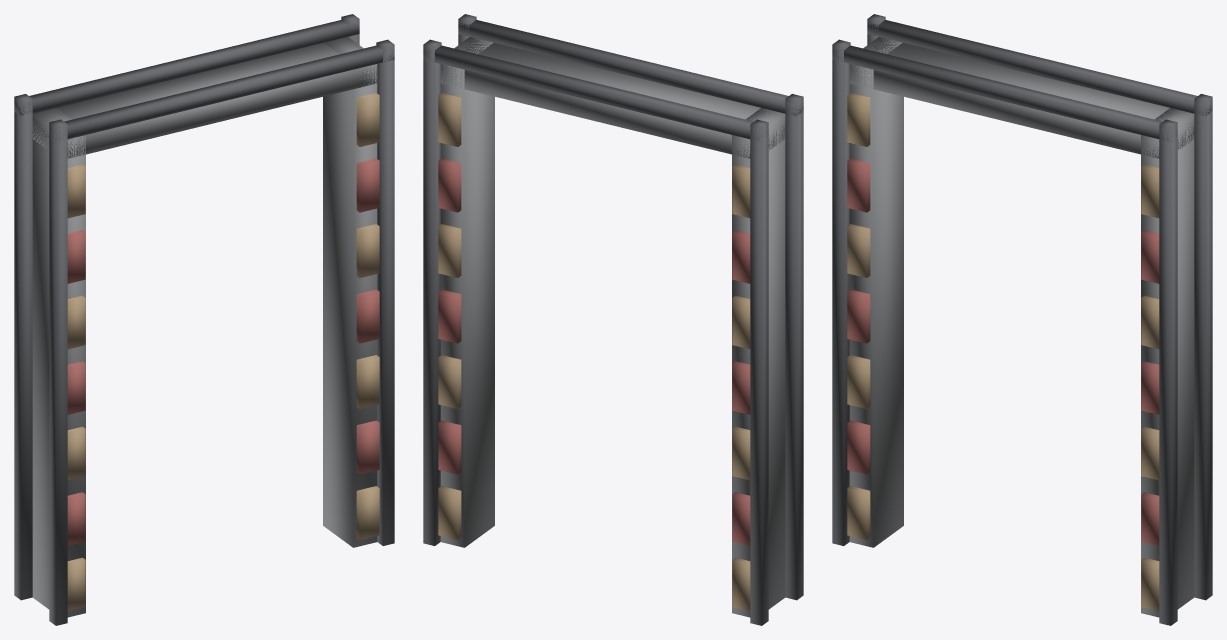
File: doorway_brick_return_w122_h200_d24.glb
The picture shows the model from 3 angles, left to right: view 1: azimuth 30°, elevation 25°; view 2: azimuth 150°, elevation 25°; view 3: azimuth 330°, elevation 25°; orthographic projection.
Parts seen in each view (by area): view 1: world; view 2: world; view 3: world.
Boxes of the visible parts, bbox=[...] form: world: bbox=[14, 14, 394, 625]; world: bbox=[423, 14, 803, 625]; world: bbox=[832, 14, 1212, 625].
Bounding box in the file's own units: 1.55 × 2.18 × 0.3296.
